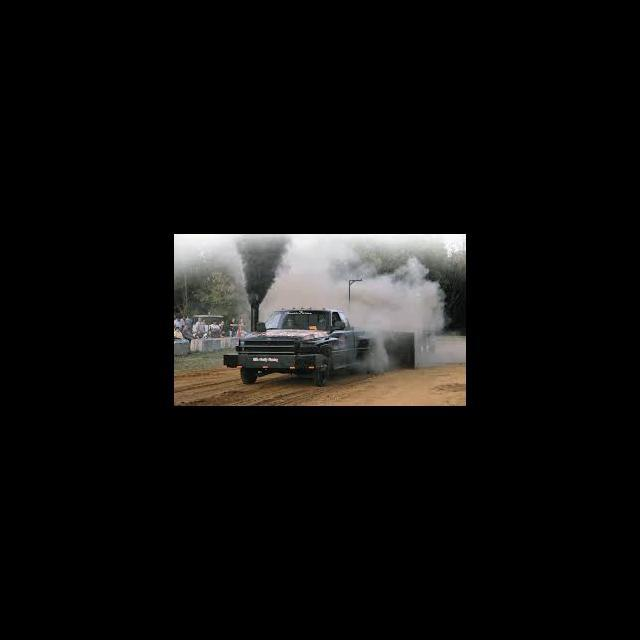Smoke: (175, 235, 352, 310), (356, 258, 446, 370)
